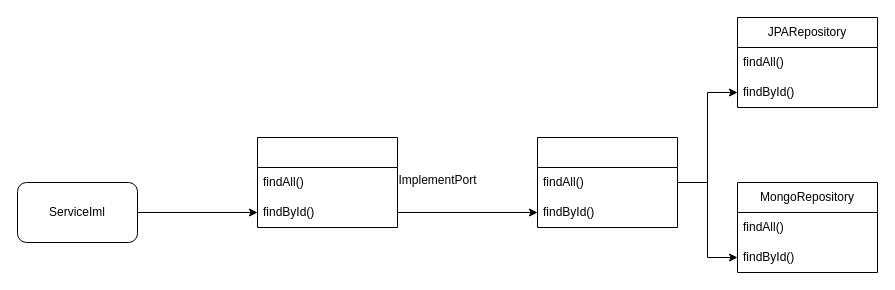
This 895x290 diagram has some shape labels left out. Each missing label, with the box of its shape:
RepositoryAdapter: (536, 136, 678, 228)
RepositoryPort: (256, 136, 398, 228)
